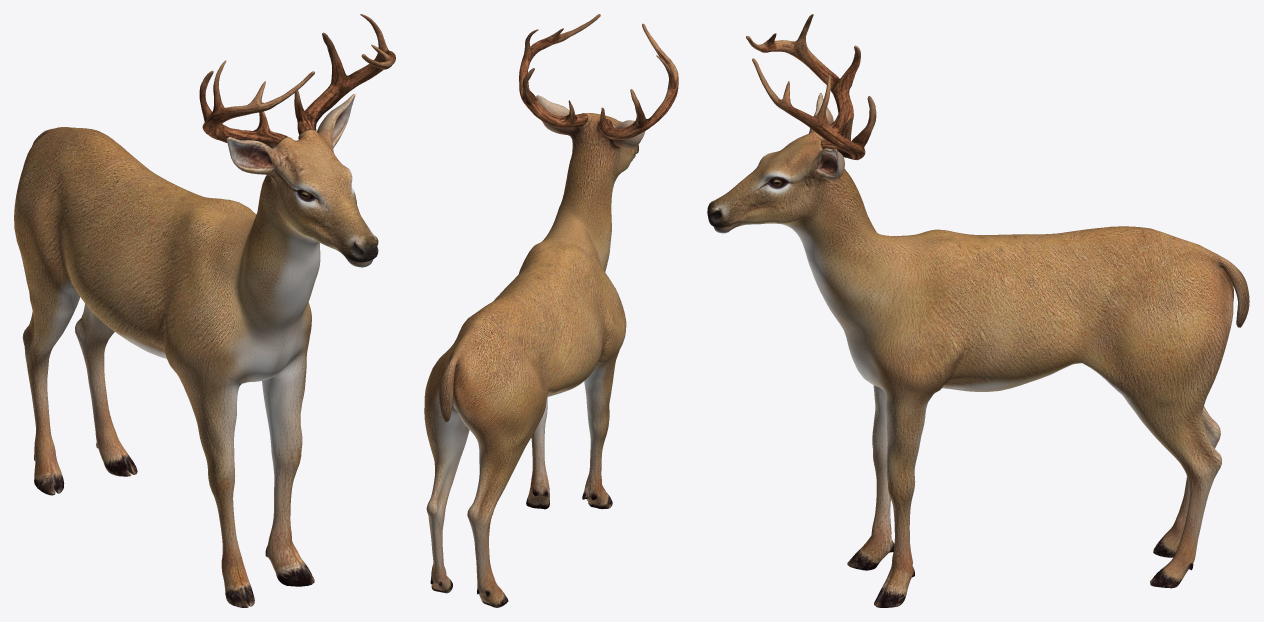
The model's file is new_large_deer.glb.
The picture shows the model from 3 angles, left to right: view 1: azimuth 30°, elevation 25°; view 2: azimuth 150°, elevation 25°; view 3: azimuth 270°, elevation 25°; orthographic projection. The views are drawn at different scales.
Visible parts, largest first — view 1: Deer; view 2: Deer; view 3: Deer.
Part boxes in pixels (x1,y1,x2,y2): Deer: (14,14,395,607); Deer: (424,14,678,607); Deer: (707,14,1249,607).
Size of the model in its own units: 8.13 by 23.68 by 21.41.
1 material, 1 textured.
